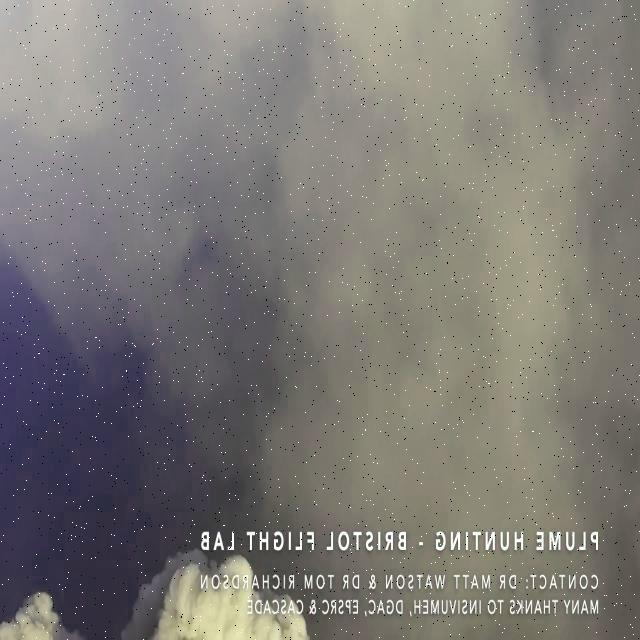Plume: (0, 506, 330, 640)
